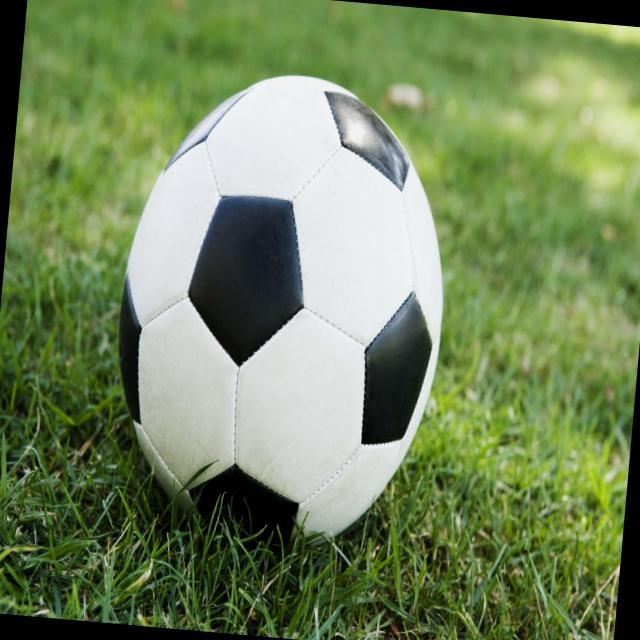Soccer Ball: (101, 63, 462, 566)
